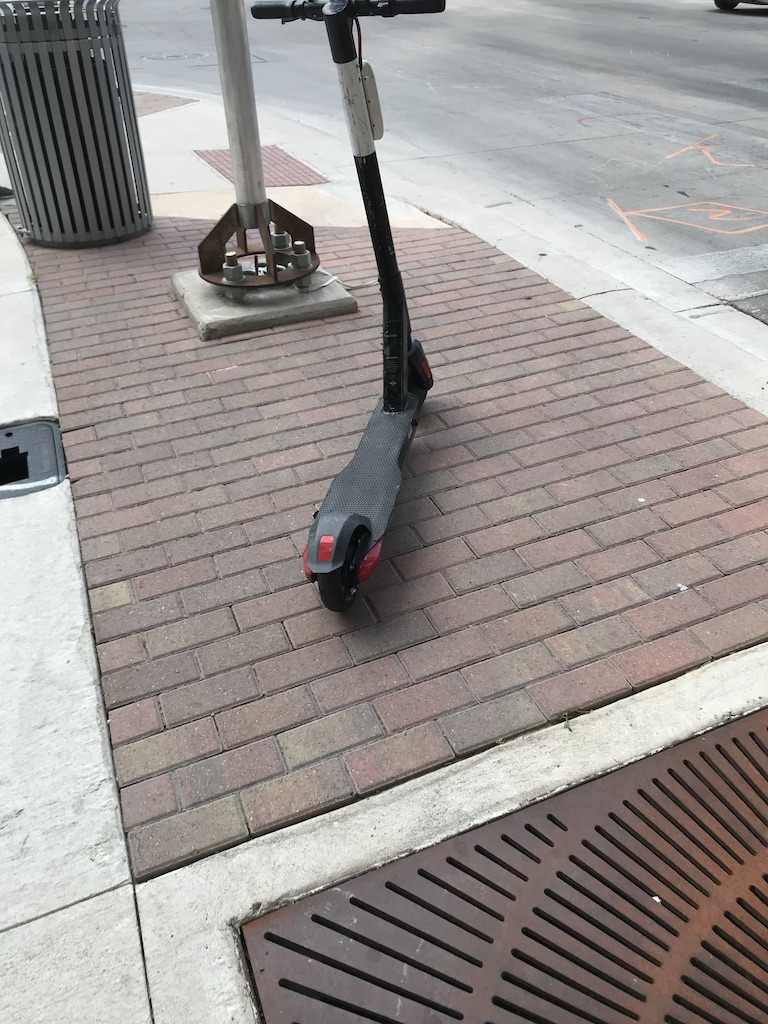scooter: (246, 2, 444, 617)
